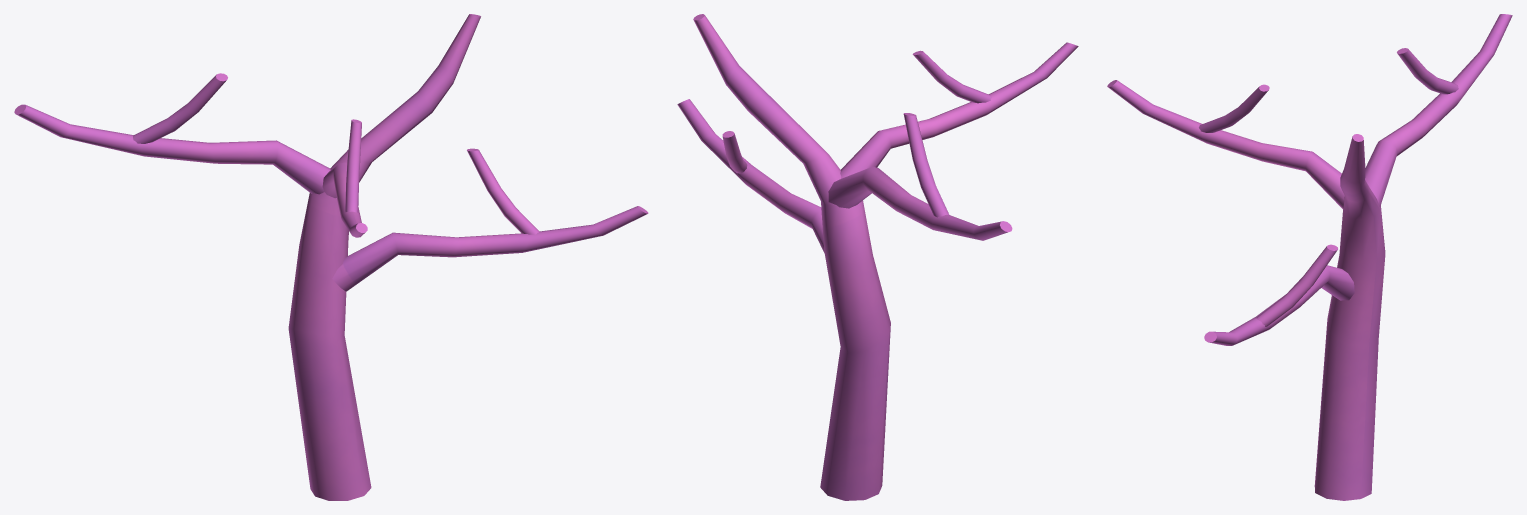
The model's file is DeadTree_9.obj.
The picture shows the model from 3 angles, left to right: view 1: azimuth 30°, elevation 25°; view 2: azimuth 150°, elevation 25°; view 3: azimuth 270°, elevation 25°; orthographic projection. The views are drawn at different scales.
Parts seen in each view (by area): view 1: DeadTree_9_Cylinder.045; view 2: DeadTree_9_Cylinder.045; view 3: DeadTree_9_Cylinder.045.
Boxes of the visible parts, bbox=[...] form: DeadTree_9_Cylinder.045: bbox=[14, 14, 648, 500]; DeadTree_9_Cylinder.045: bbox=[677, 14, 1078, 500]; DeadTree_9_Cylinder.045: bbox=[1107, 14, 1512, 500].
Size of the model in its own units: 5.09 by 4.42 by 3.85.
Materials: 1 (1 with a texture image).
